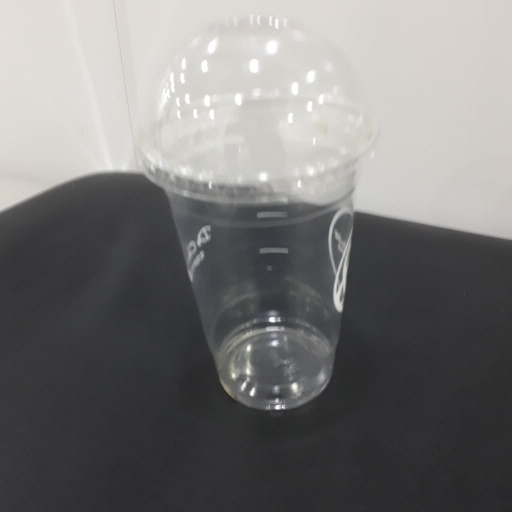Plastic_2: (131, 16, 381, 412)
